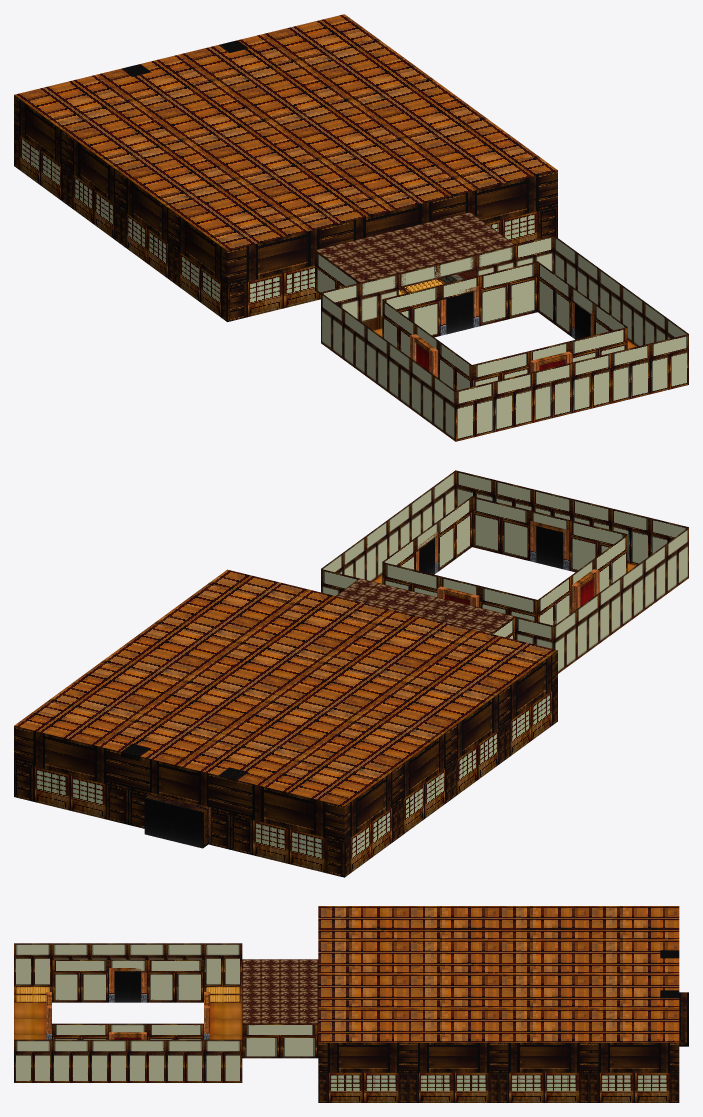
The model's file is test_room2.fbx.
The picture shows the model from 3 angles, top to bottom: view 1: azimuth 30°, elevation 25°; view 2: azimuth 150°, elevation 25°; view 3: azimuth 270°, elevation 25°; orthographic projection. The views are drawn at different scales.
Visible parts, largest first — view 1: Plane.045, Plane.039, Plane.037, Plane.056, Plane.050, Plane.046, Plane.051, Plane.057, Plane.042, Plane.024; view 2: Plane.045, Plane.039, Plane.044, Plane.037, Plane.050, Plane.051, Plane.054, Plane.046, Plane.055, Plane.025, Plane.059; view 3: Plane.045, Plane.039, Plane.052, Plane.053, Plane.037, Plane.046, Plane.042, Plane, Plane.038, Plane.032, Plane.044, Plane.031 (+1 smaller).
Part boxes in pixels (x1,y1,x2,y2): Plane.045: (14,14,557,250); Plane.039: (321,235,688,441); Plane.037: (382,261,627,390); Plane.056: (227,170,557,321); Plane.050: (14,95,227,321); Plane.046: (315,212,514,282); Plane.051: (19,135,221,317); Plane.057: (246,210,538,317); Plane.042: (315,245,515,321); Plane.024: (446,291,473,334); Plane.045: (14,569,557,806); Plane.039: (321,470,688,673); Plane.044: (14,726,344,877); Plane.037: (382,496,627,625); Plane.050: (344,650,557,877); Plane.051: (350,690,552,872); Plane.054: (33,766,325,872); Plane.046: (336,578,514,633); Plane.055: (144,799,202,848); Plane.025: (536,526,563,569); Plane.059: (121,743,248,845); Plane.045: (318,906,679,1042); Plane.039: (14,943,242,1082); Plane.052: (318,1042,679,1102); Plane.053: (327,1072,669,1102); Plane.037: (52,959,203,1039); Plane.046: (242,959,318,1023); Plane.042: (242,1023,318,1058); Plane: (14,1002,242,1039); Plane.038: (14,986,242,1002); Plane.032: (114,971,141,1002); Plane.044: (679,992,688,1046); Plane.031: (109,968,146,1002).
Size of the model in its own units: 34 by 7 by 71.
Materials: 17 (17 with a texture image).
